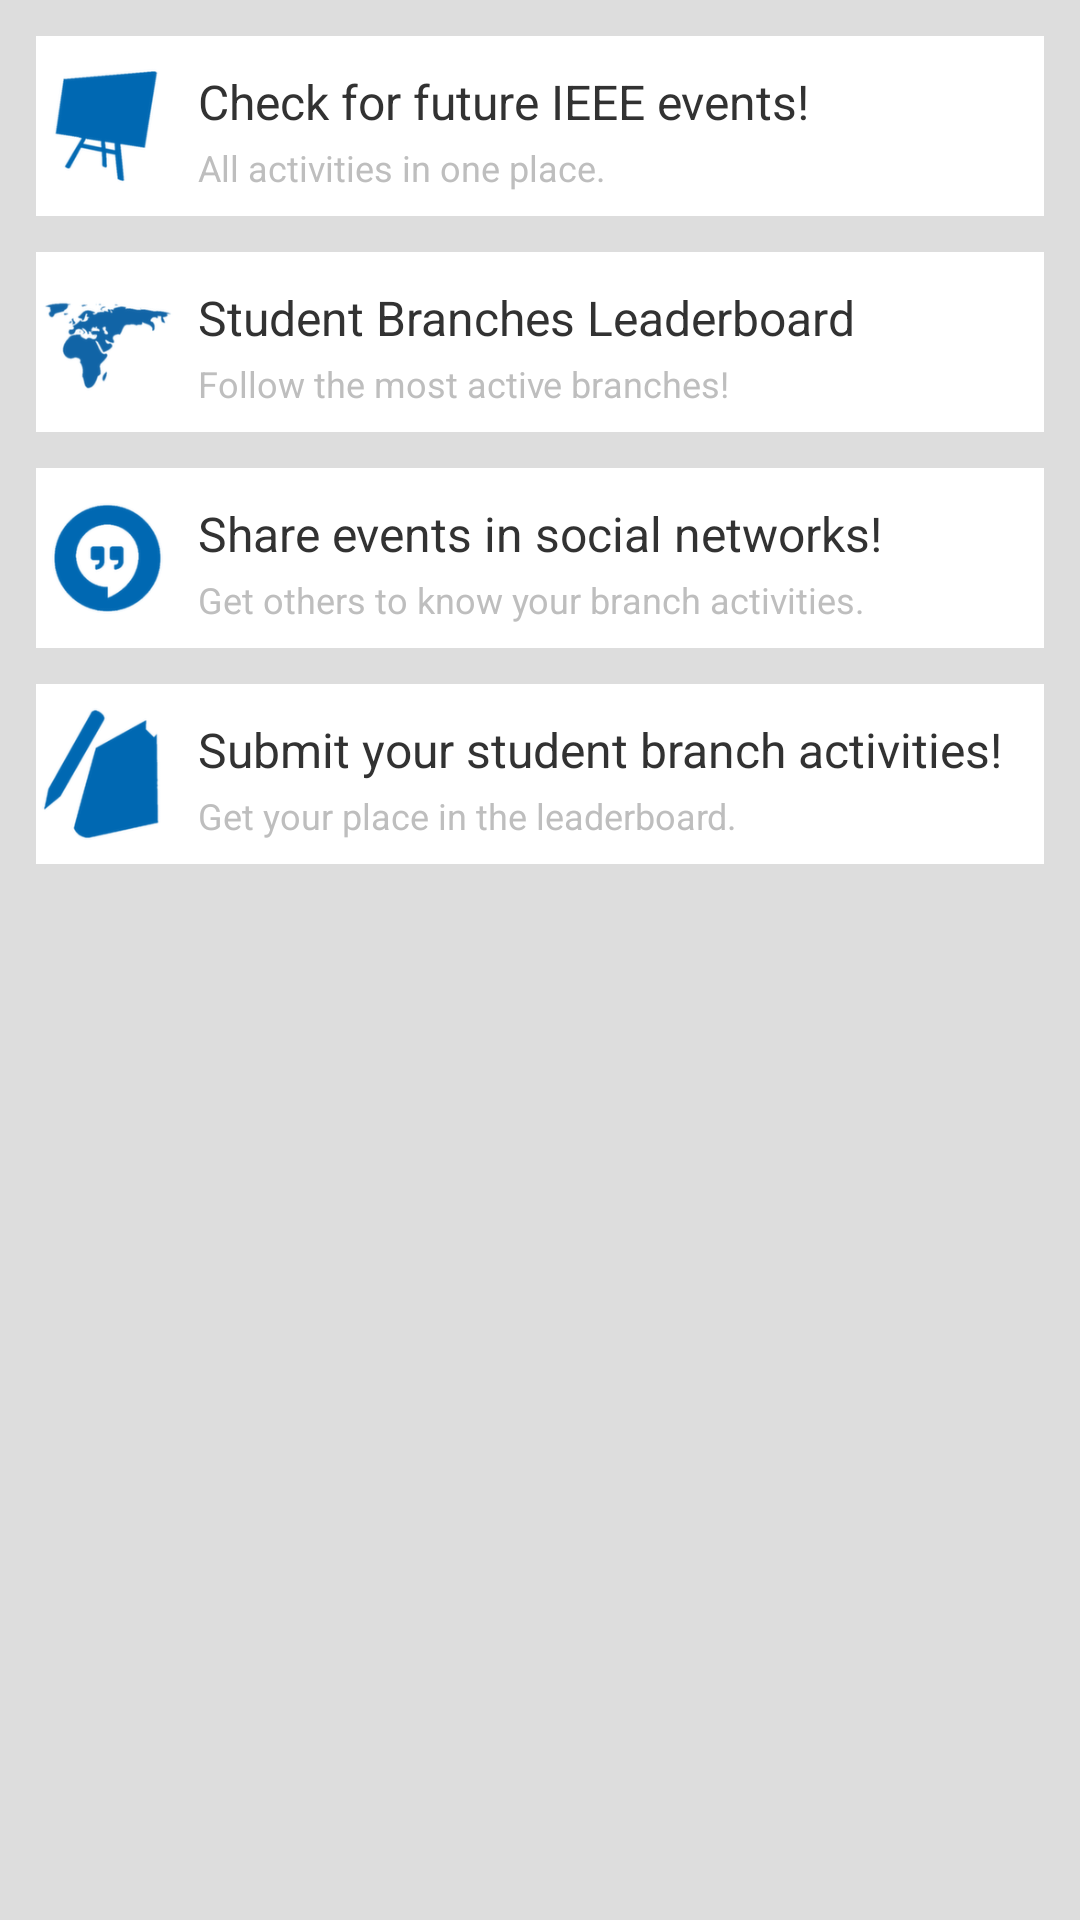

Point at icon controls on the screen. Image size 1080×1920, points as [x,y].
present: [106,126]
